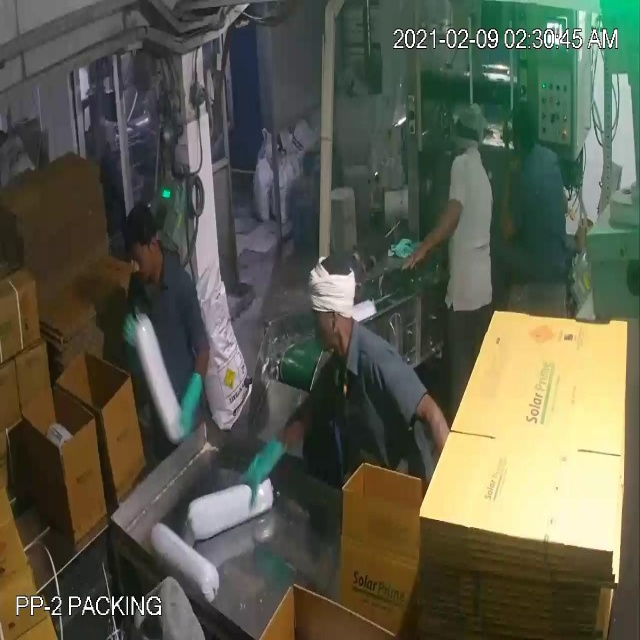Guantes: (233, 415, 289, 511), (176, 348, 208, 451), (116, 300, 151, 385)
Sin_guantes: (399, 187, 470, 274), (492, 148, 525, 245)
